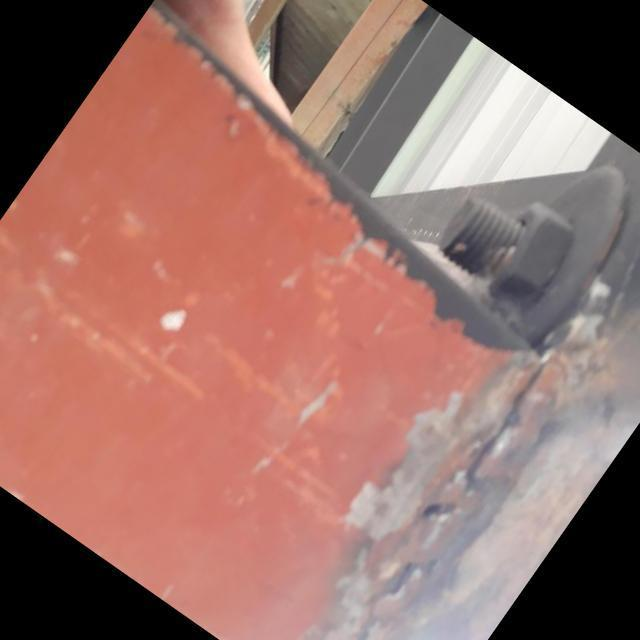defect: (414, 356, 549, 524), (377, 550, 448, 606)
